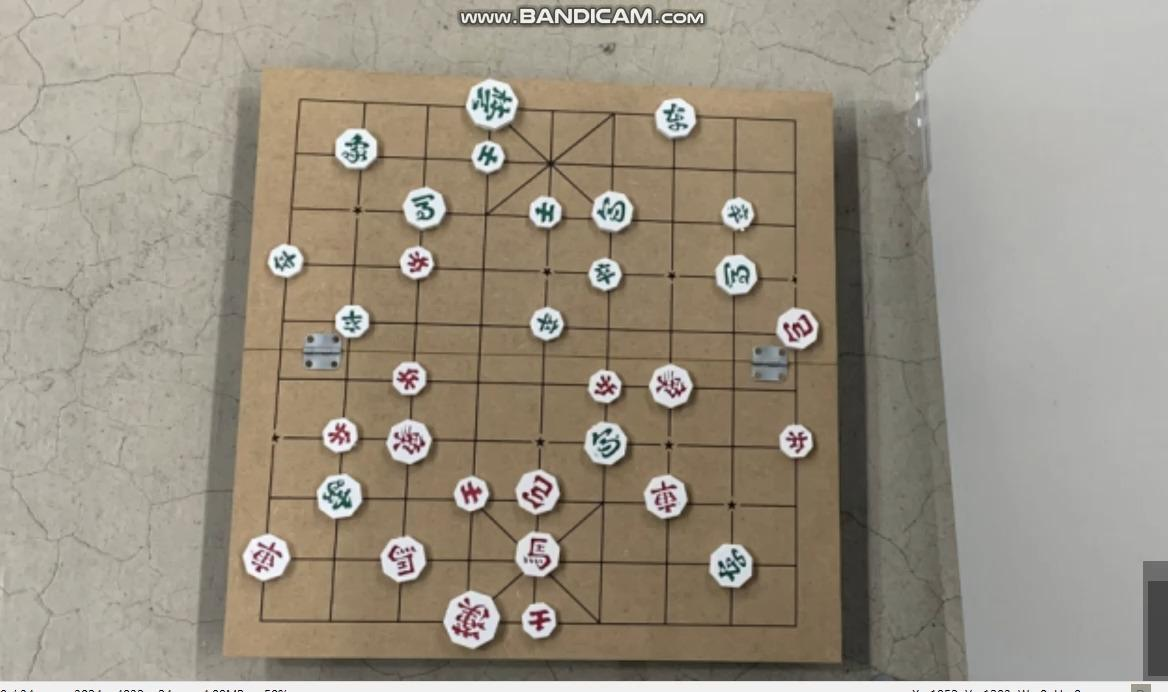cha_green: (709, 543, 753, 589), (653, 98, 697, 137)
cha_red: (242, 537, 291, 581), (642, 477, 689, 518)
jol_green: (267, 245, 304, 277), (529, 309, 566, 341), (720, 198, 757, 230), (333, 306, 371, 337), (588, 259, 624, 291)
jol_red: (321, 421, 361, 454), (777, 426, 816, 458), (586, 371, 625, 403), (391, 363, 428, 396), (397, 246, 435, 277)
ma_green: (404, 188, 449, 228), (715, 255, 759, 293)
ma_red: (379, 538, 429, 582), (513, 535, 561, 575)
po_green: (583, 425, 629, 466), (591, 192, 635, 231)
po_red: (514, 470, 563, 512), (775, 308, 821, 348)
sa_green: (527, 196, 564, 227), (470, 142, 506, 173)
sa_red: (452, 477, 492, 511), (520, 604, 559, 638)
sang_green: (316, 477, 364, 519), (333, 130, 378, 169)
sang_red: (385, 422, 433, 464), (649, 366, 695, 406)
wang_green: (465, 79, 519, 127)
wang_red: (443, 594, 502, 643)
